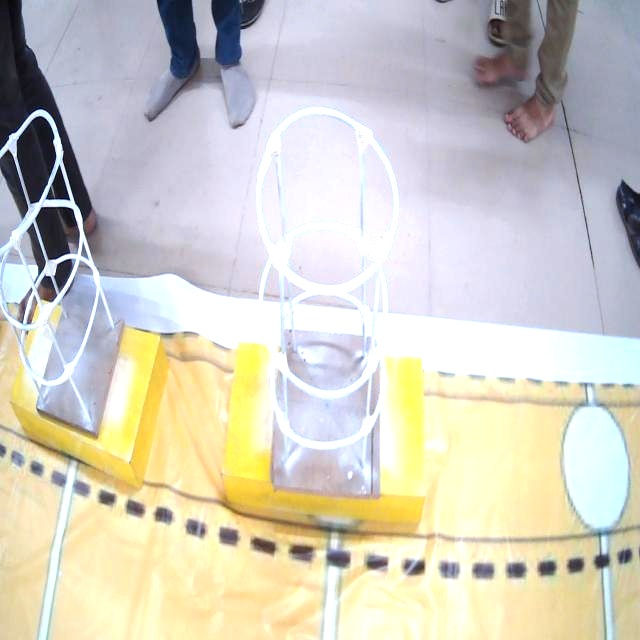silo: (245, 83, 407, 517)
